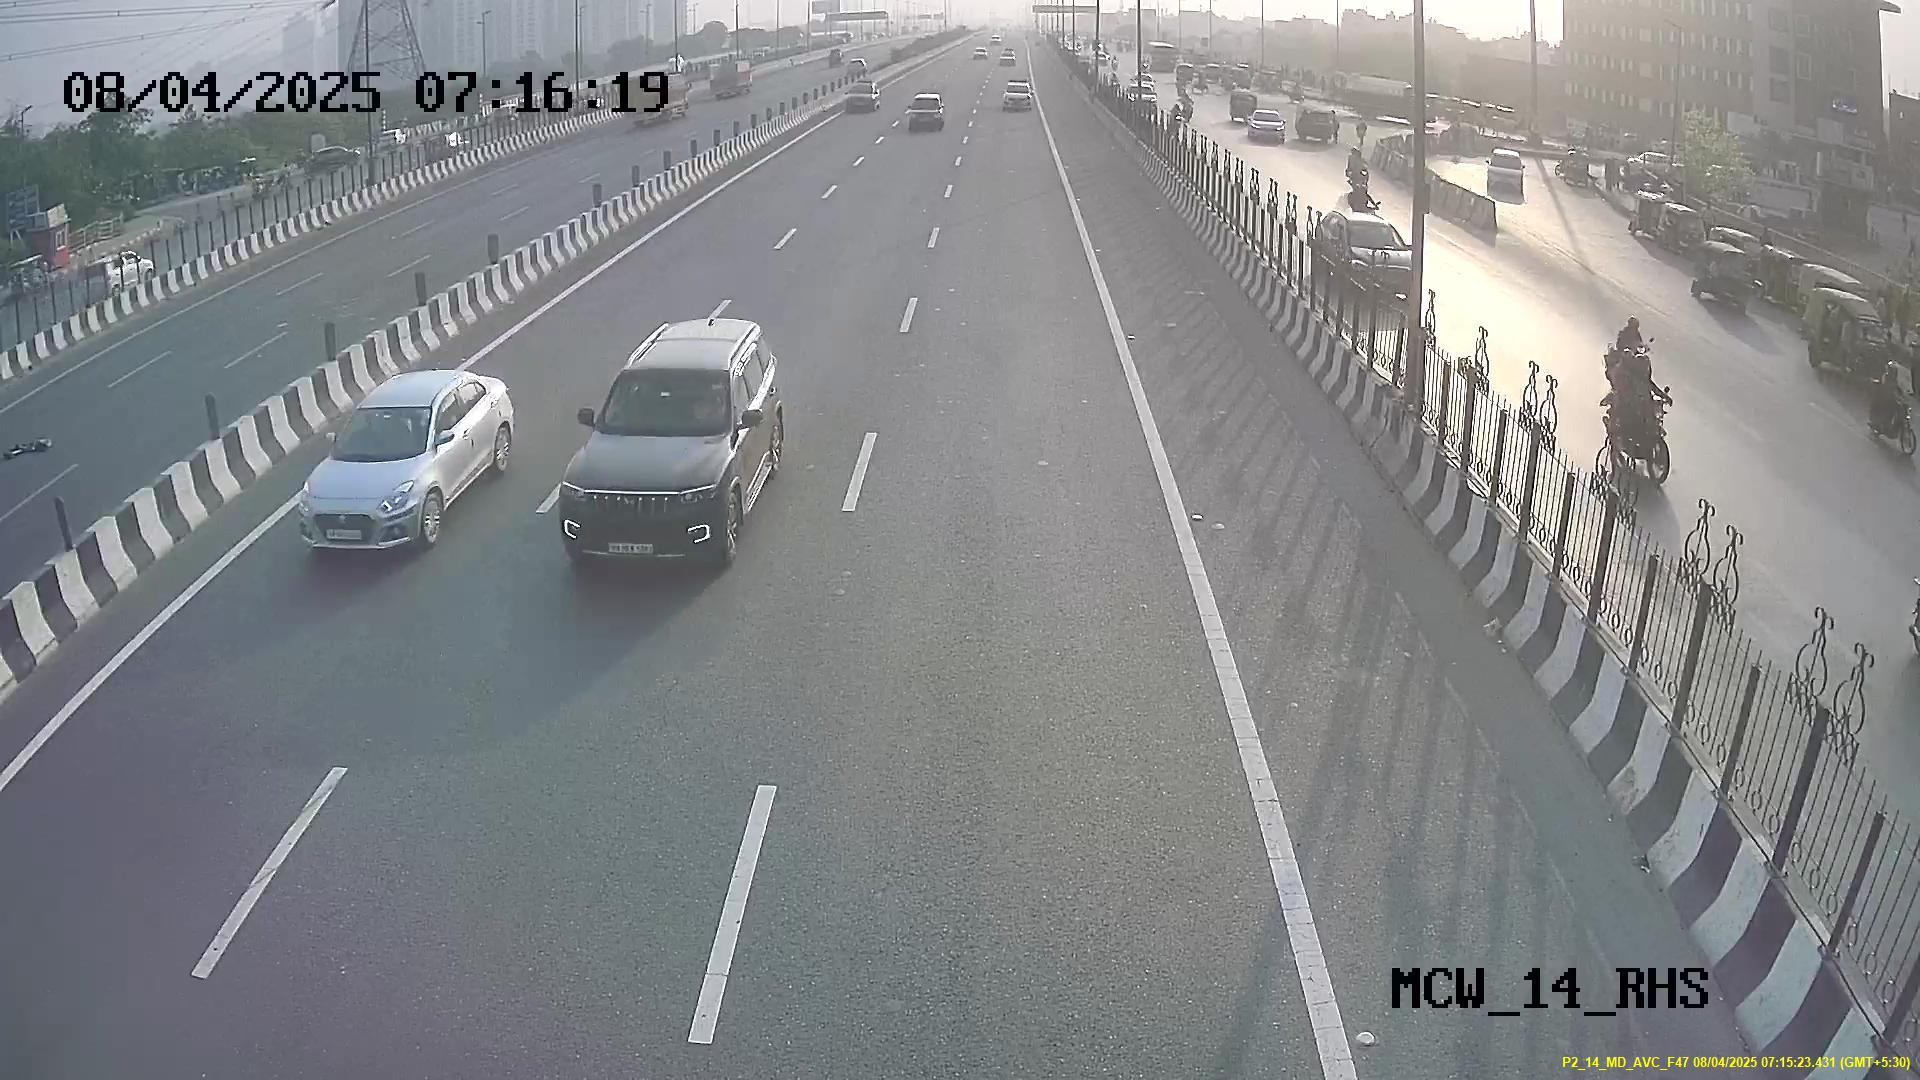car: (559, 344, 756, 575), (295, 384, 475, 555)
